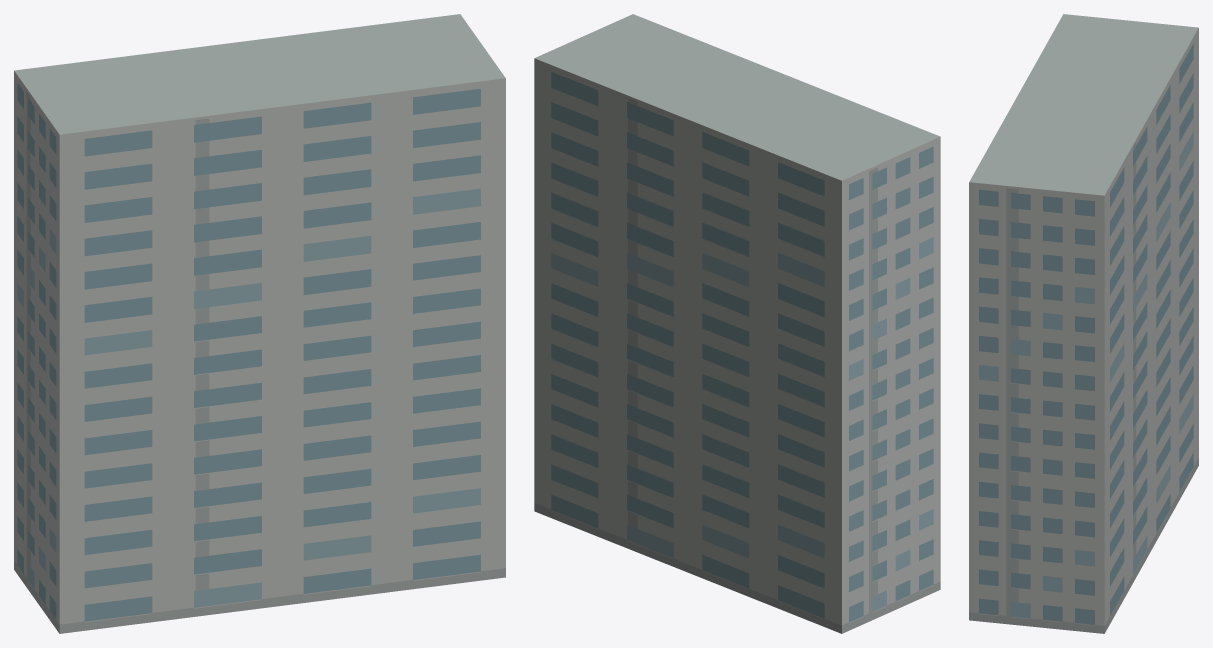
The model's file is residential-71f3806f-d004-42e2-8161-c1601b48432f.glb.
The picture shows the model from 3 angles, left to right: view 1: azimuth 30°, elevation 25°; view 2: azimuth 150°, elevation 25°; view 3: azimuth 270°, elevation 25°; orthographic projection. The views are drawn at different scales.
Visible parts, largest first — view 1: residential-71f3806f-d004-42e2-8161-c1601b48432f.tmp; view 2: residential-71f3806f-d004-42e2-8161-c1601b48432f.tmp; view 3: residential-71f3806f-d004-42e2-8161-c1601b48432f.tmp.
Part boxes in pixels (box(x1,y1,x2,y2)): residential-71f3806f-d004-42e2-8161-c1601b48432f.tmp: box(14, 14, 505, 633); residential-71f3806f-d004-42e2-8161-c1601b48432f.tmp: box(534, 14, 940, 633); residential-71f3806f-d004-42e2-8161-c1601b48432f.tmp: box(969, 14, 1198, 633).
Bounding box in the file's own units: 40.69 × 45.75 × 21.74.
